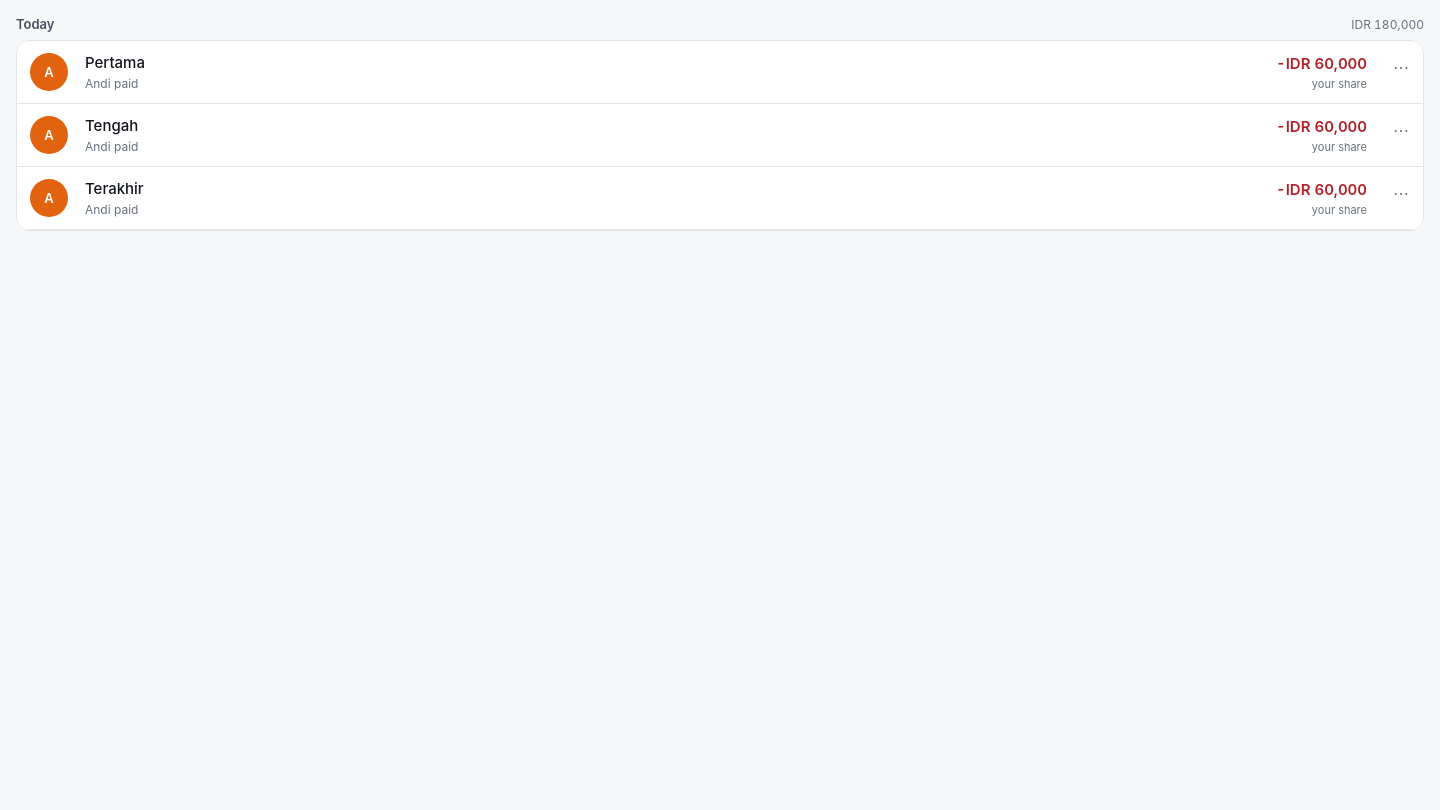
Scenario: TransactionList › opens action sheet for Tengah row
Click the 2nd button "⋯" at (1401, 130), box [1379,108,1423,152]
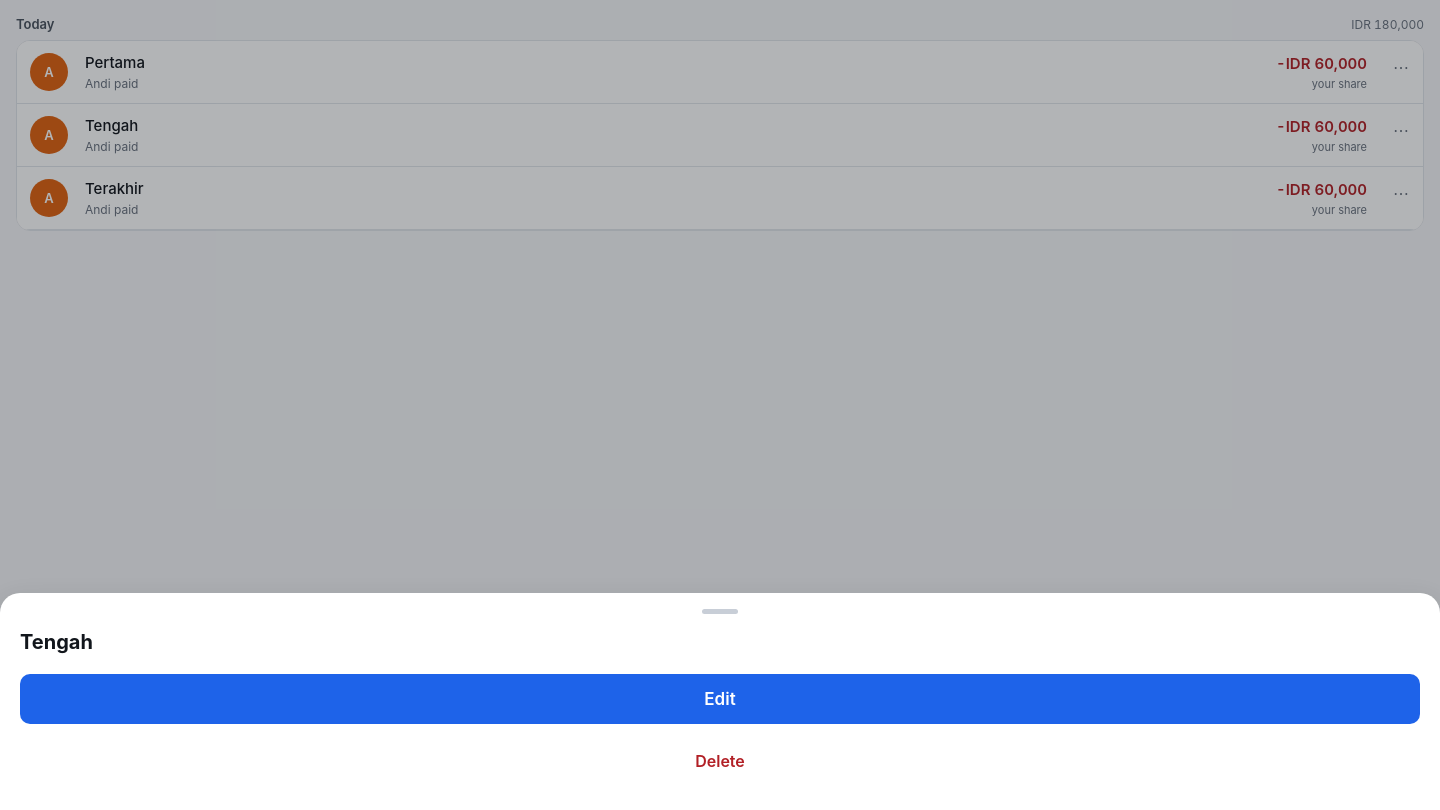
Now the dialog "Tengah" is shown, box [0,593,1439,809]
